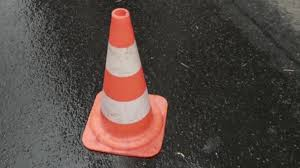cones: (77, 7, 168, 159)
